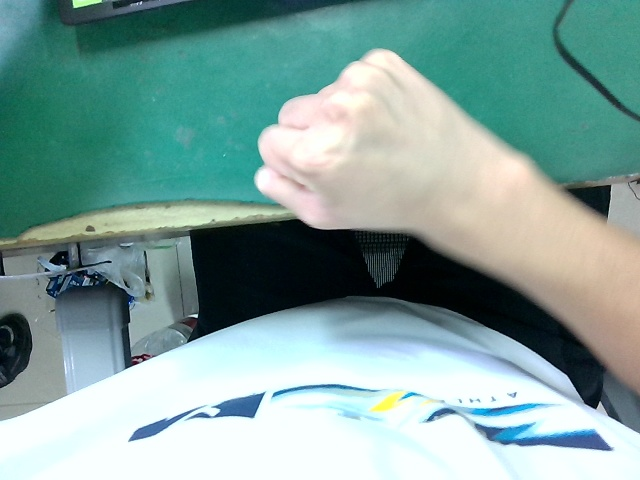stone: (241, 39, 512, 274)
